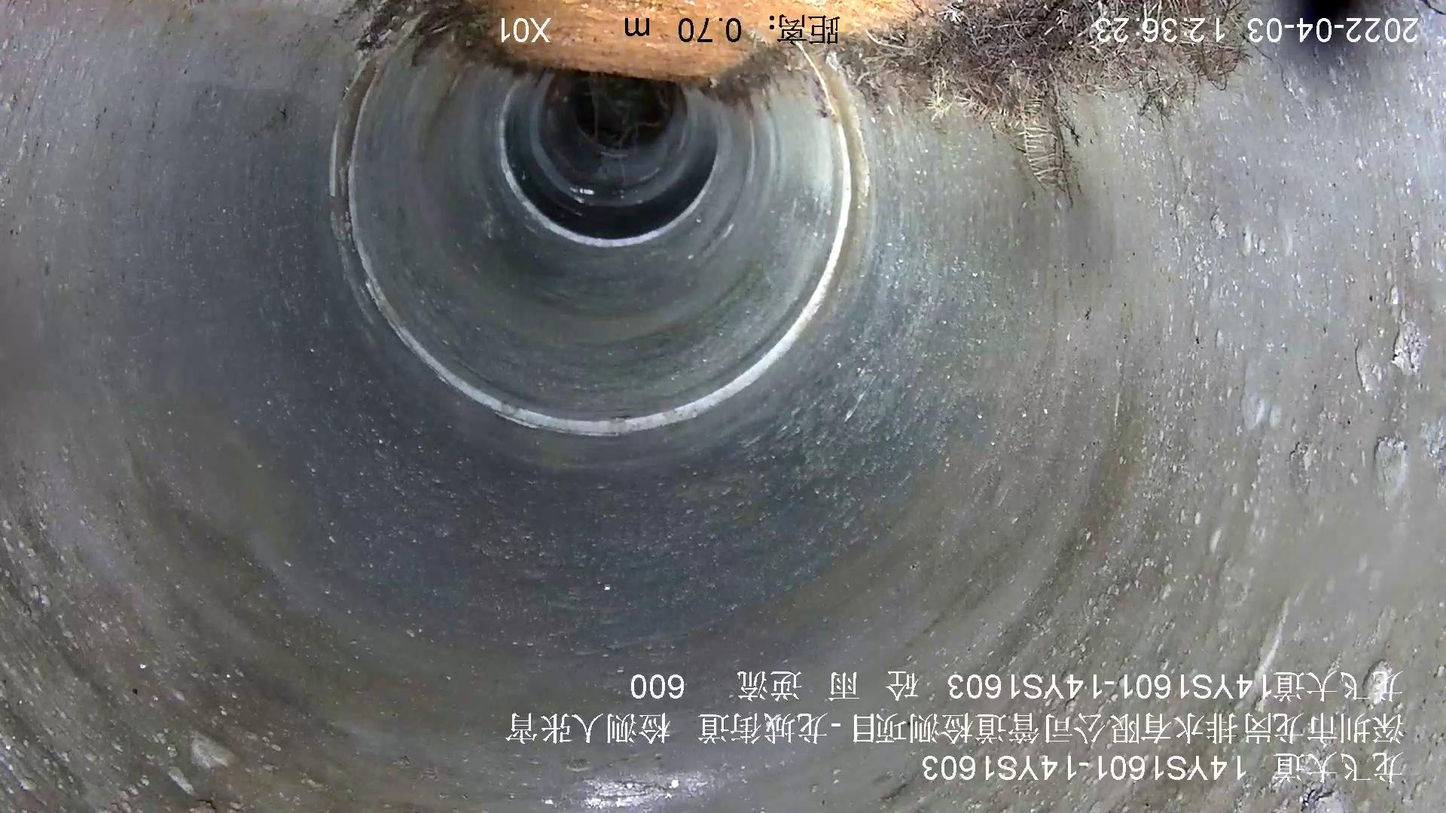CJ: (471, 1, 937, 84)
CKTJ: (343, 89, 856, 437), (497, 102, 721, 248)
